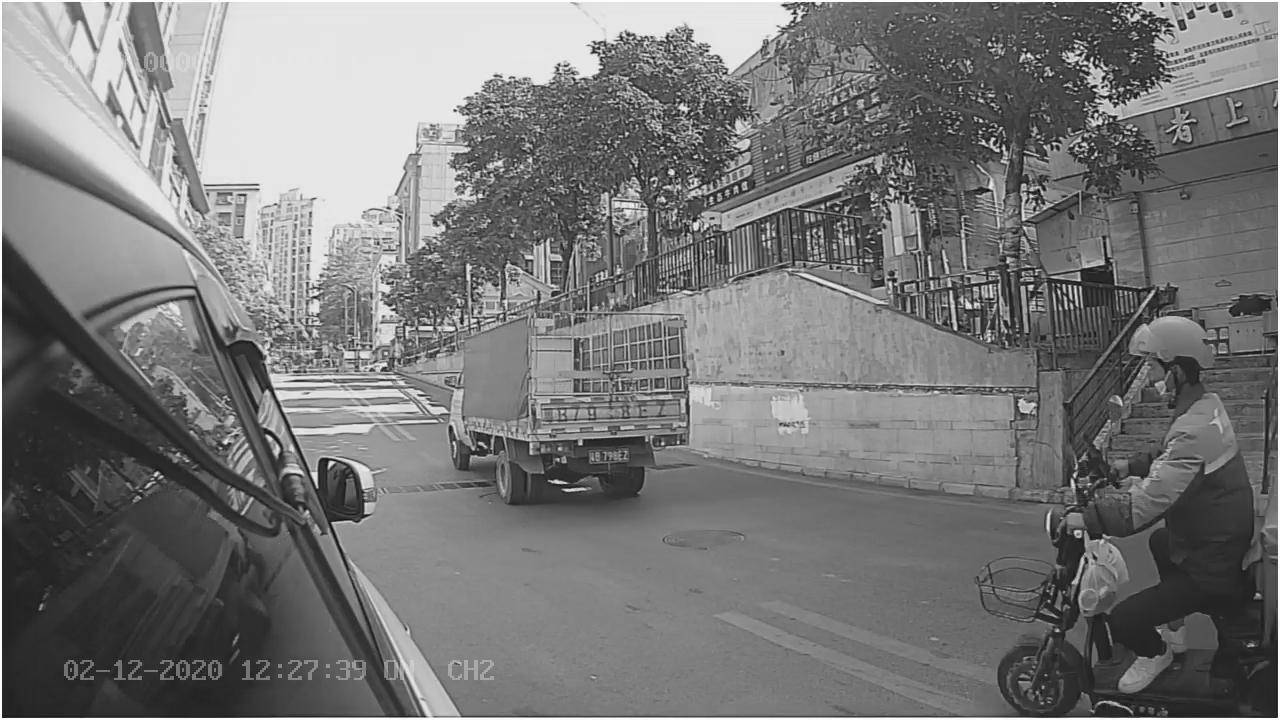person: (1062, 294, 1260, 536)
